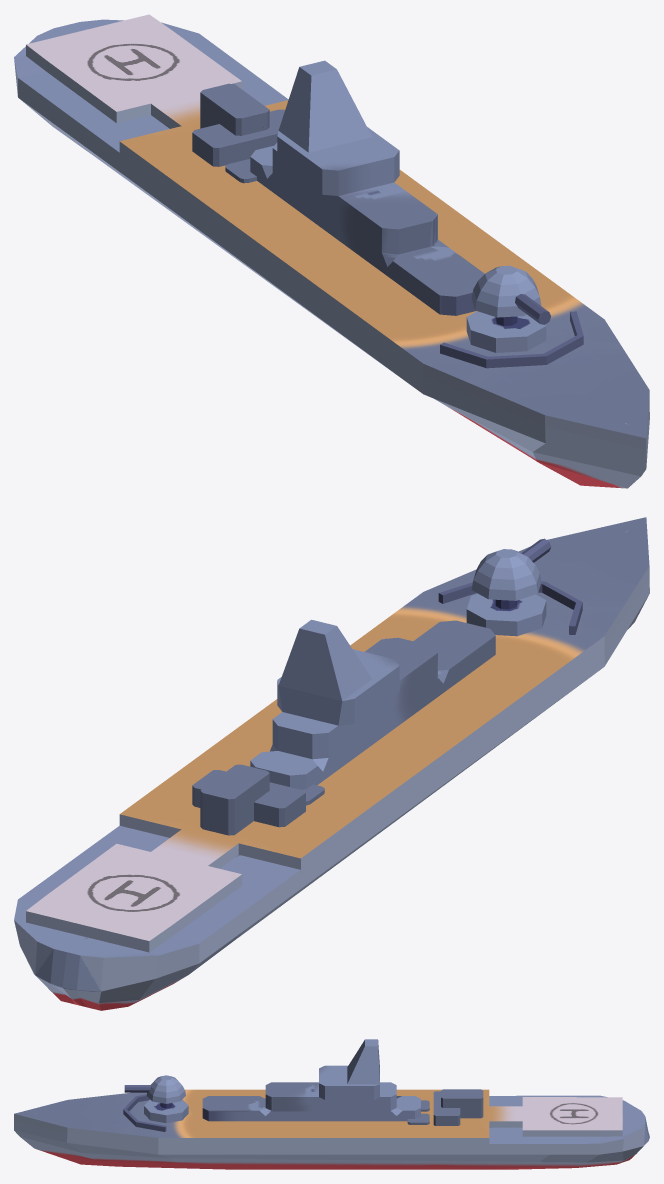
File: cruiser 1.fbx
3 renders of one model, top to bottom at view 1: azimuth 30°, elevation 25°; view 2: azimuth 150°, elevation 25°; view 3: azimuth 270°, elevation 25°, orthographic. The views are drawn at different scales.
Parts seen in each view (by area): view 1: Cube, Cube.001, Cube.003, Cylinder, Cylinder.003, Cylinder.002; view 2: Cube, Cube.001, Cube.003, Cylinder.003, Cylinder, Cylinder.002; view 3: Cube, Cube.001, Cube.003, Cylinder.003, Cylinder, Cylinder.002, Cube.002, Cylinder.001.
Boxes of the visible parts, <box> form: Cube: <box>14,14,649,488</box>; Cube.001: <box>250,60,484,315</box>; Cube.003: <box>192,83,284,166</box>; Cylinder: <box>466,311,546,352</box>; Cylinder.003: <box>471,265,541,317</box>; Cylinder.002: <box>440,311,583,368</box>; Cube: <box>14,517,649,1010</box>; Cube.001: <box>250,619,495,789</box>; Cube.003: <box>192,764,305,835</box>; Cylinder.003: <box>471,549,541,600</box>; Cylinder: <box>466,594,546,636</box>; Cylinder.002: <box>438,581,582,634</box>; Cube: <box>14,1089,649,1169</box>; Cube.001: <box>202,1039,420,1121</box>; Cube.003: <box>433,1089,483,1125</box>; Cylinder.003: <box>146,1075,185,1103</box>; Cylinder: <box>144,1099,188,1123</box>; Cylinder.002: <box>123,1094,166,1131</box>; Cube.002: <box>407,1100,429,1124</box>; Cylinder.001: <box>124,1085,150,1092</box>.
Size of the model in its own units: 244 by 284 by 1360.
